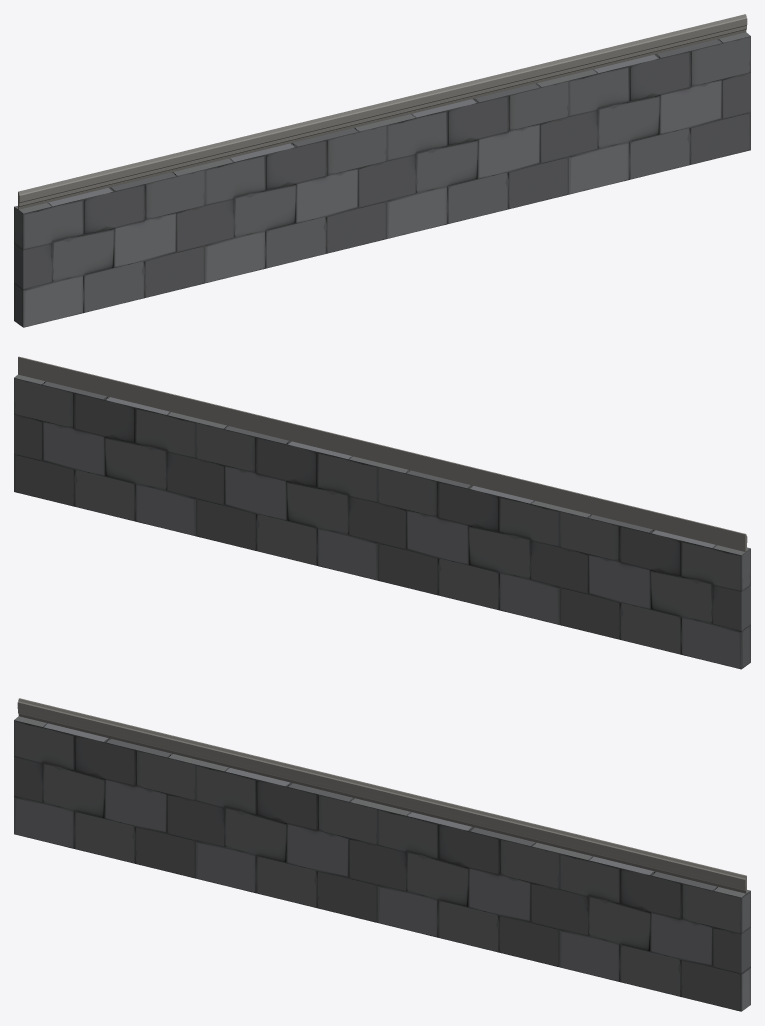
File: crypt_wall_low.gltf
3 views of the same model, one above another, from view 1: azimuth 30°, elevation 25°; view 2: azimuth 150°, elevation 25°; view 3: azimuth 330°, elevation 25° (orthographic).
Parts seen in each view (by area): view 1: crypt_wall_low; view 2: crypt_wall_low; view 3: crypt_wall_low.
Boxes of the visible parts, x1,y1,x2,y2 form: crypt_wall_low: [14, 14, 750, 327]; crypt_wall_low: [14, 356, 750, 669]; crypt_wall_low: [14, 698, 750, 1011].
Size of the model in its own units: 10 by 1.73 by 0.225.
2 materials, 2 textured.
